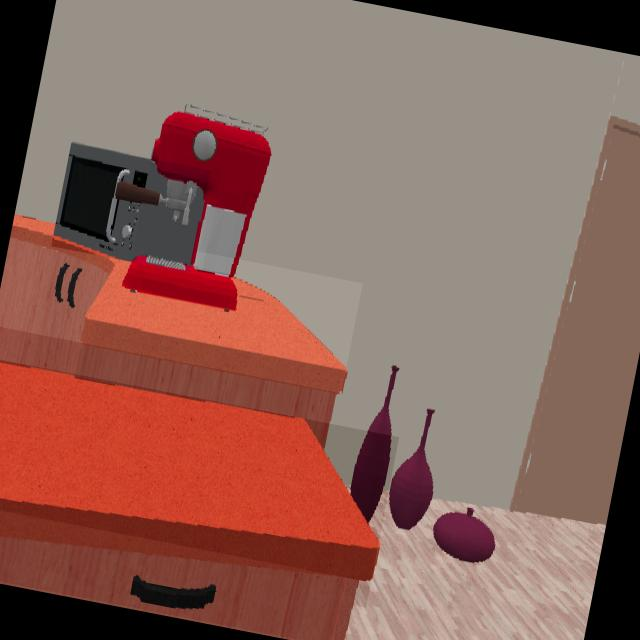cabinet: (0, 240, 335, 445), (0, 539, 357, 640)
countertop: (0, 363, 379, 580), (10, 217, 346, 392)
microwave: (54, 144, 204, 264)
